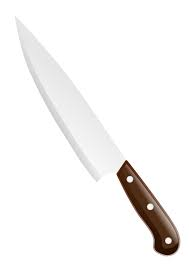knife: (14, 14, 181, 257)
